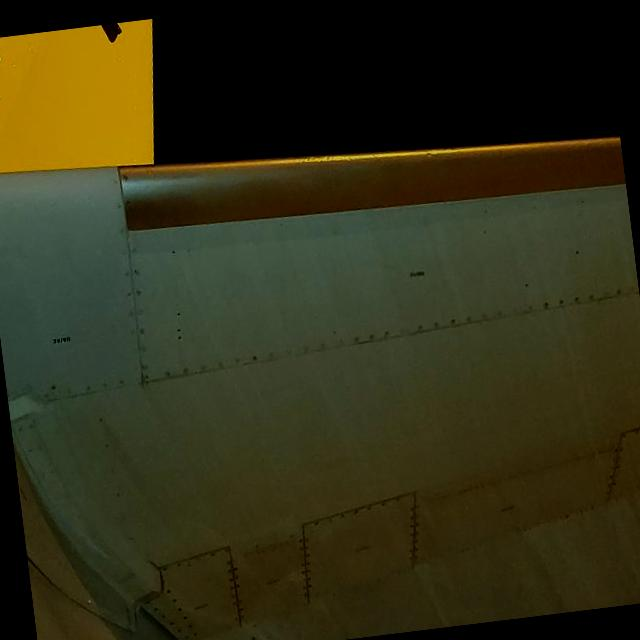dent: (418, 144, 435, 166)
